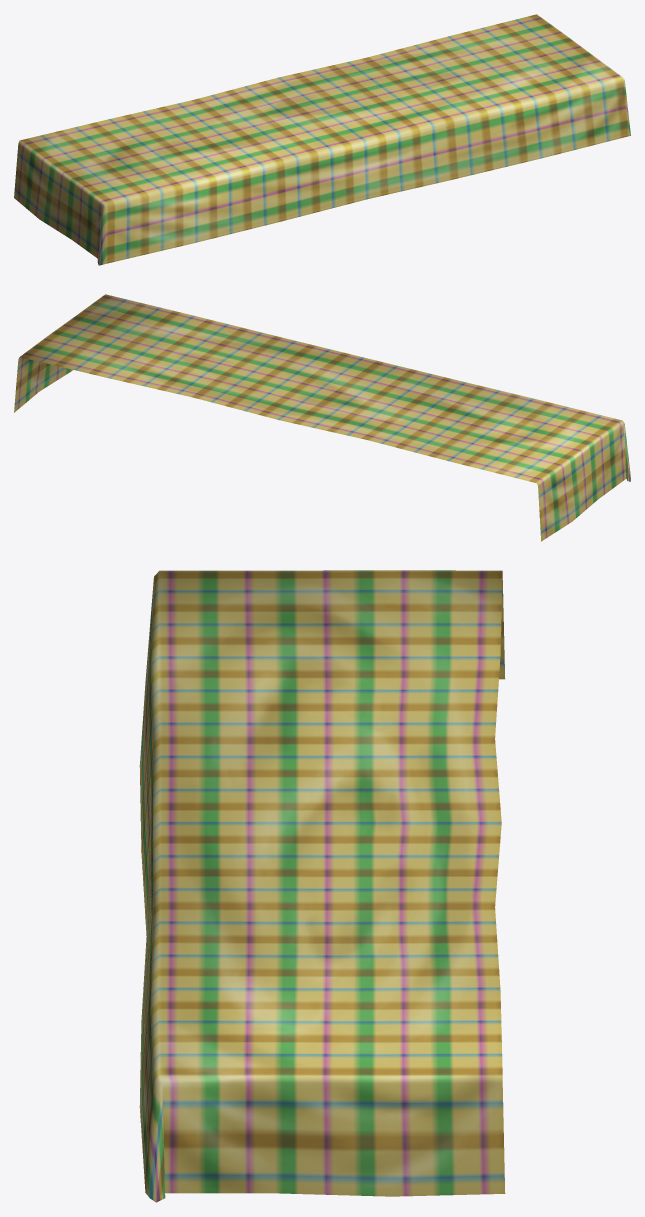
The model's file is jsf_BlindfoldCloth_2P_s03_03.fbx.
3 views of the same model, one above another, from view 1: azimuth 30°, elevation 25°; view 2: azimuth 150°, elevation 25°; view 3: azimuth 270°, elevation 25° (orthographic). The views are drawn at different scales.
Visible parts, largest first — view 1: jsf_BlindfoldCloth_2P_s03_03; view 2: jsf_BlindfoldCloth_2P_s03_03; view 3: jsf_BlindfoldCloth_2P_s03_03.
Boxes of the visible parts, x1,y1,x2,y2 form: jsf_BlindfoldCloth_2P_s03_03: (14, 14, 630, 265); jsf_BlindfoldCloth_2P_s03_03: (14, 294, 630, 541); jsf_BlindfoldCloth_2P_s03_03: (139, 570, 505, 1202).
Bounding box in the file's own units: 261 × 28.1 × 77.58.
